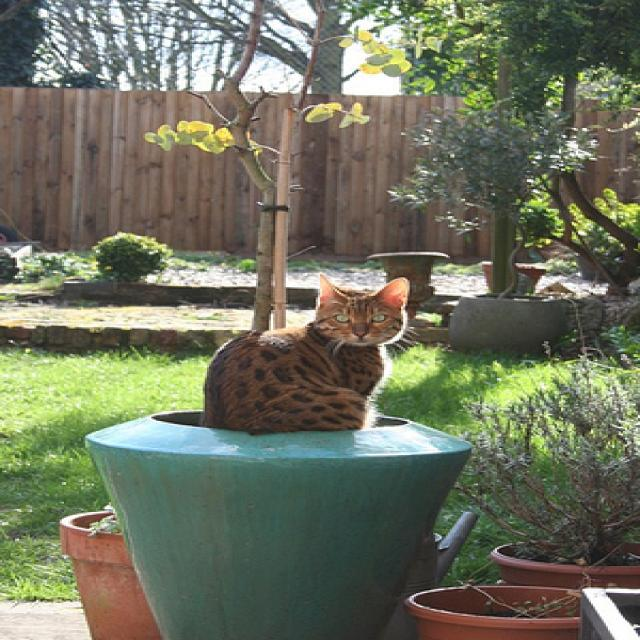Bengal: (202, 265, 422, 443)
